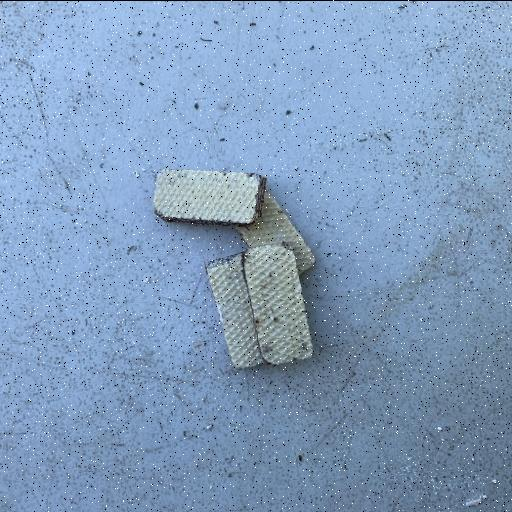Waste: (150, 166, 318, 369), (204, 242, 316, 370), (151, 167, 267, 227)
